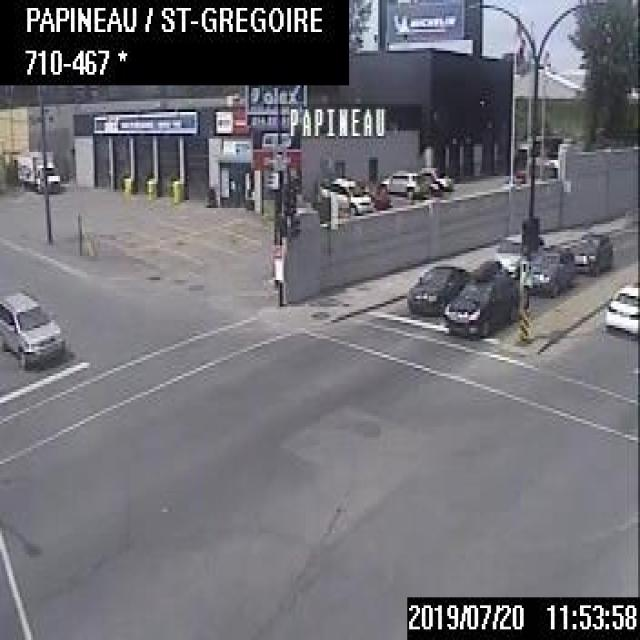vehicle: (442, 258, 528, 338), (0, 288, 62, 368), (403, 261, 468, 315), (522, 229, 573, 296), (316, 170, 374, 215), (569, 227, 613, 275), (14, 148, 61, 192), (604, 277, 638, 336), (379, 168, 425, 198), (422, 163, 456, 192)
